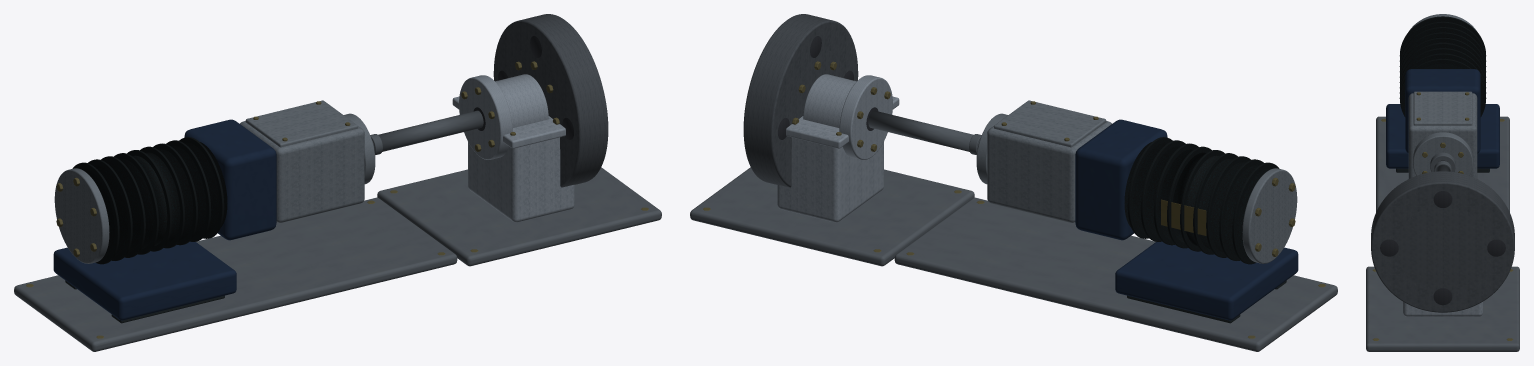
Rendered from connector_snap_assembly.glb.
3 views of the same model, side by side, from view 1: azimuth 30°, elevation 25°; view 2: azimuth 150°, elevation 25°; view 3: azimuth 270°, elevation 25° (orthographic). The views are drawn at different scales.
Visible parts, largest first — view 1: drive baseplate, load baseplate, drive motor cradle, flywheel disk, motor steel body, reduction gearbox, motor fan shroud, load pedestal column, motor end cap, gearbox cover plate, hub bearing flange, drive shaft (+13 smaller); view 2: drive baseplate, load baseplate, drive motor cradle, flywheel disk, reduction gearbox, motor steel body, motor fan shroud, load pedestal column, motor end cap, gearbox cover plate, hub bearing flange, drive shaft (+14 smaller); view 3: flywheel disk, load baseplate, flywheel inner ring, drive motor cradle, drive baseplate, motor fan shroud, gearbox cover plate, reduction gearbox, gearbox output flange, load pedestal column, motor fin 9, motor fin 4 (+14 smaller).
Boxes of the visible parts, x1,y1,x2,y2 form: drive baseplate: [14, 197, 457, 351]; load baseplate: [377, 167, 661, 266]; drive motor cradle: [53, 241, 236, 320]; flywheel disk: [493, 14, 608, 187]; motor steel body: [80, 142, 227, 258]; reduction gearbox: [240, 121, 364, 222]; motor fan shroud: [184, 119, 276, 240]; load pedestal column: [468, 137, 574, 222]; motor end cap: [54, 168, 109, 263]; gearbox cover plate: [245, 100, 357, 147]; hub bearing flange: [459, 75, 512, 159]; drive shaft: [372, 110, 483, 151]; drive baseplate: [894, 197, 1337, 351]; load baseplate: [690, 167, 974, 266]; drive motor cradle: [1115, 241, 1298, 320]; flywheel disk: [743, 14, 858, 187]; reduction gearbox: [987, 121, 1111, 222]; motor steel body: [1124, 142, 1271, 258]; motor fan shroud: [1075, 119, 1167, 240]; load pedestal column: [777, 137, 883, 222]; motor end cap: [1242, 168, 1297, 263]; gearbox cover plate: [994, 100, 1106, 147]; hub bearing flange: [839, 75, 892, 159]; drive shaft: [868, 110, 979, 151]; flywheel disk: [1371, 171, 1514, 312]; load baseplate: [1366, 266, 1519, 351]; flywheel inner ring: [1396, 206, 1489, 290]; drive motor cradle: [1386, 104, 1499, 168]; drive baseplate: [1376, 116, 1509, 212]; motor fan shroud: [1405, 69, 1480, 153]; gearbox cover plate: [1413, 91, 1472, 125]; reduction gearbox: [1408, 93, 1477, 178]; gearbox output flange: [1413, 132, 1472, 175]; load pedestal column: [1403, 302, 1482, 316]; motor fin 9: [1399, 59, 1486, 116]; motor fin 4: [1399, 32, 1486, 71].
Bounding box in the file's own units: 1.62 × 0.493 × 0.46.
11 materials, 11 textured.
